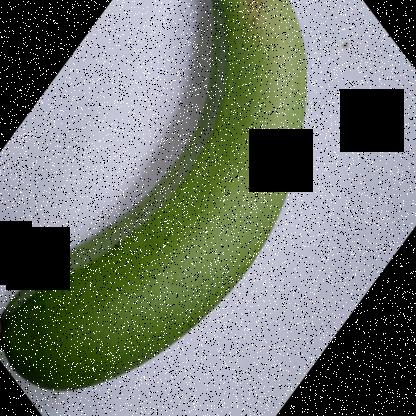freshunripe: (1, 0, 321, 399)
